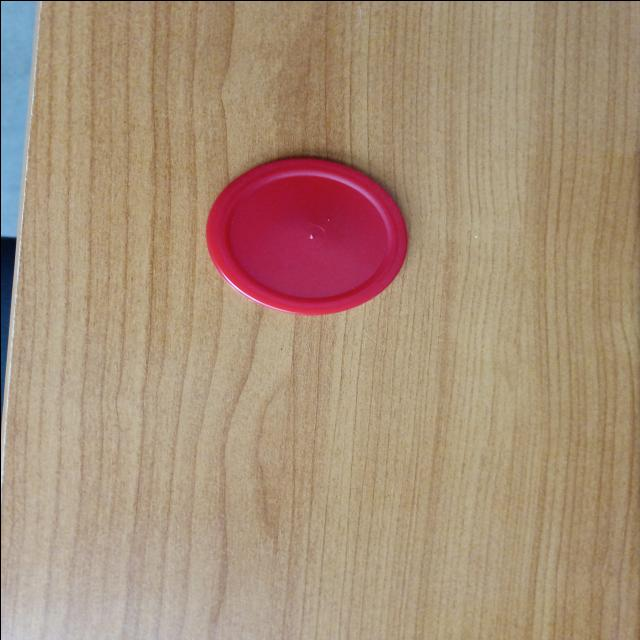chip: (201, 155, 412, 316)
